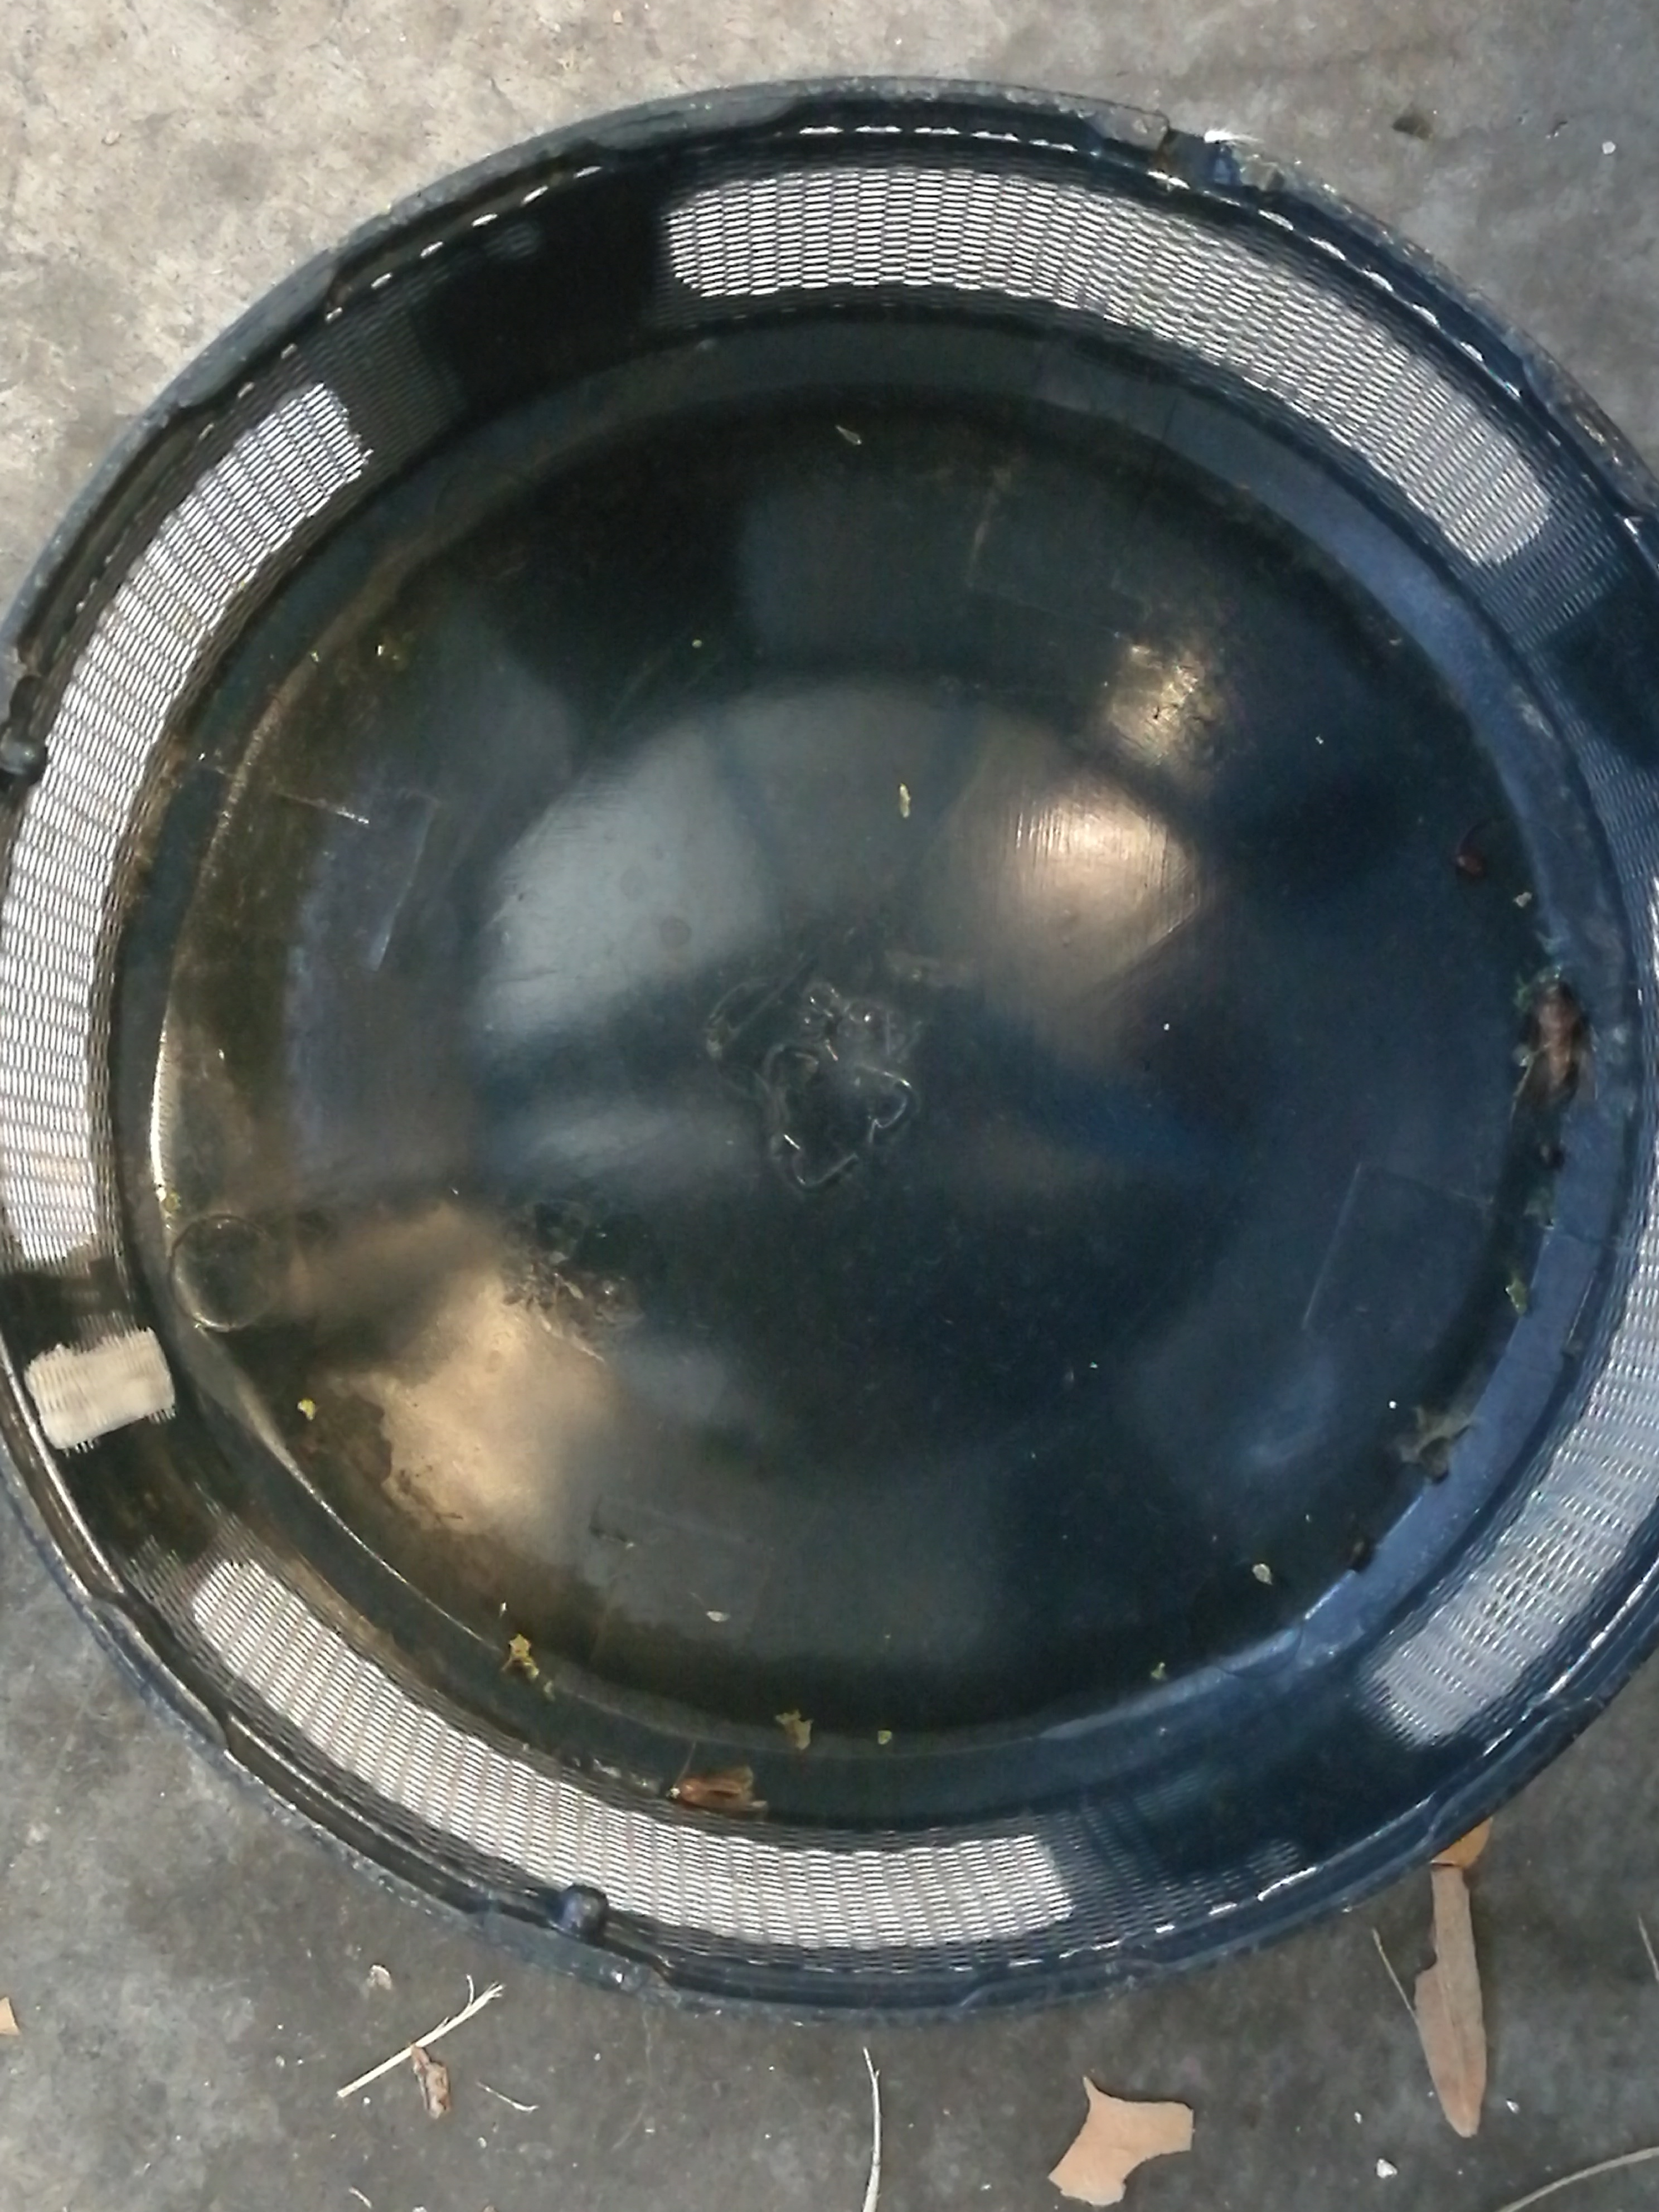beetle: (1534, 982, 1577, 1104)
moth: (673, 1768, 769, 1813)
